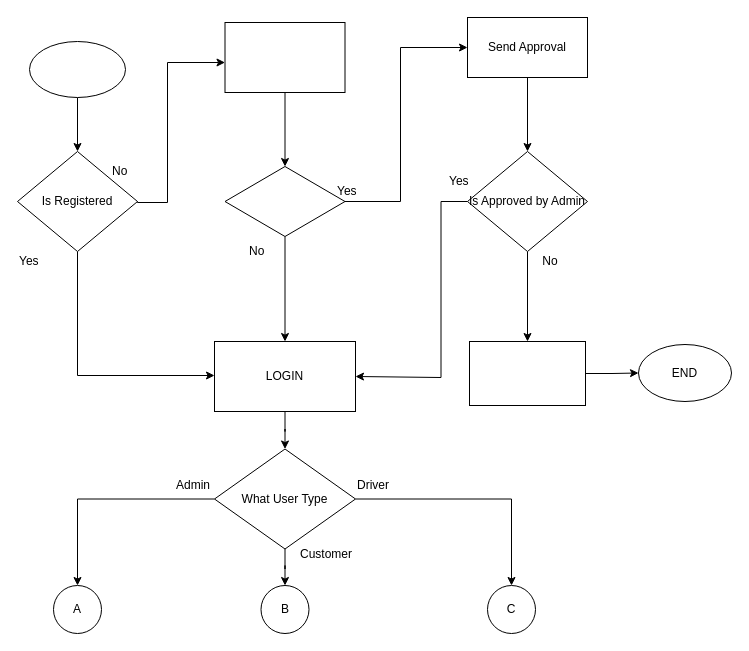
This 749x651 diagram has some shape labels left out. Here are the shapes that lost their labels. From the top down, the centre of each, then its label:
At (77,69): "Start".
At (284,57): "Register (via website)".
At (284,201): "Is Driver".
At (527,373): "Pending Application".
